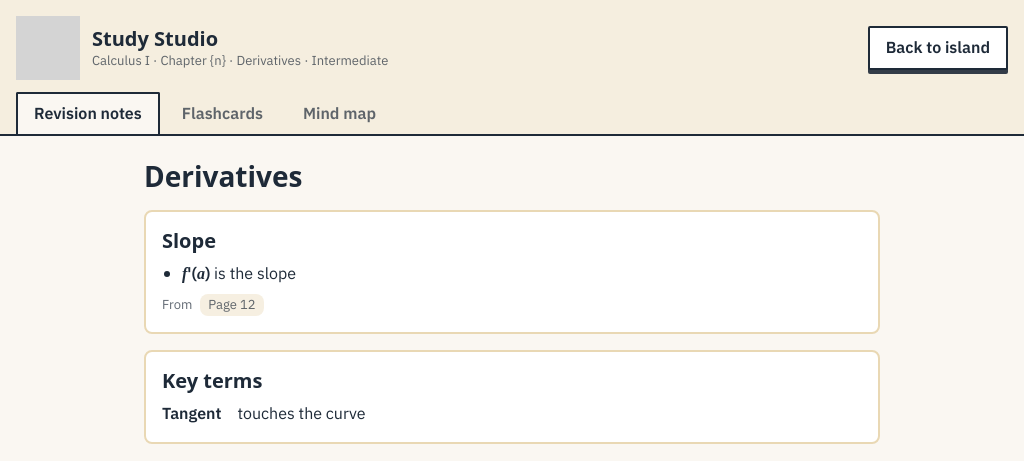
Test: Study Studio › shows notes with refs, then the mind map tab
Expected: the text "Slope" is shown, [162,227,216,254]
Expected: the text "Page" is shown, [208,295,237,314]
Click the tab "Mind map" at (340, 114), box [285,92,394,136]
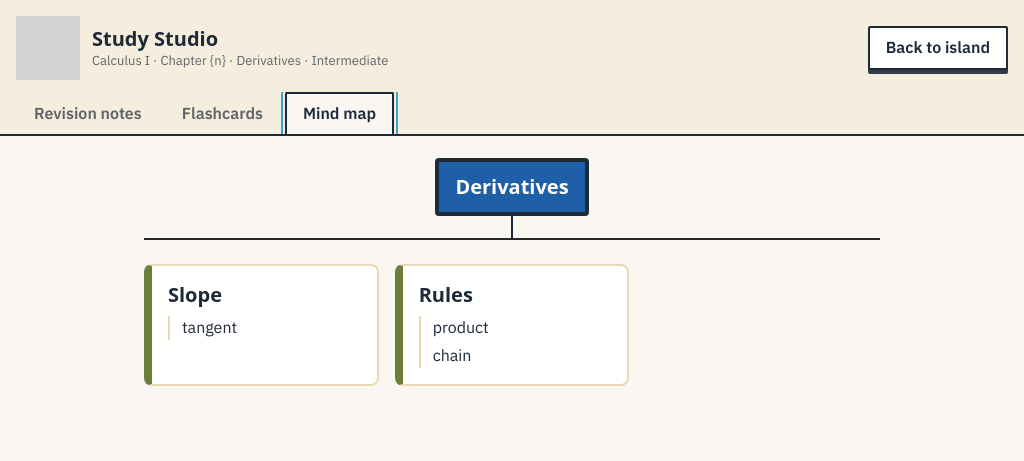
Now the text "Rules" is shown, box [419,281,473,308]
Now the text "chain" is shown, box [433,344,472,368]
